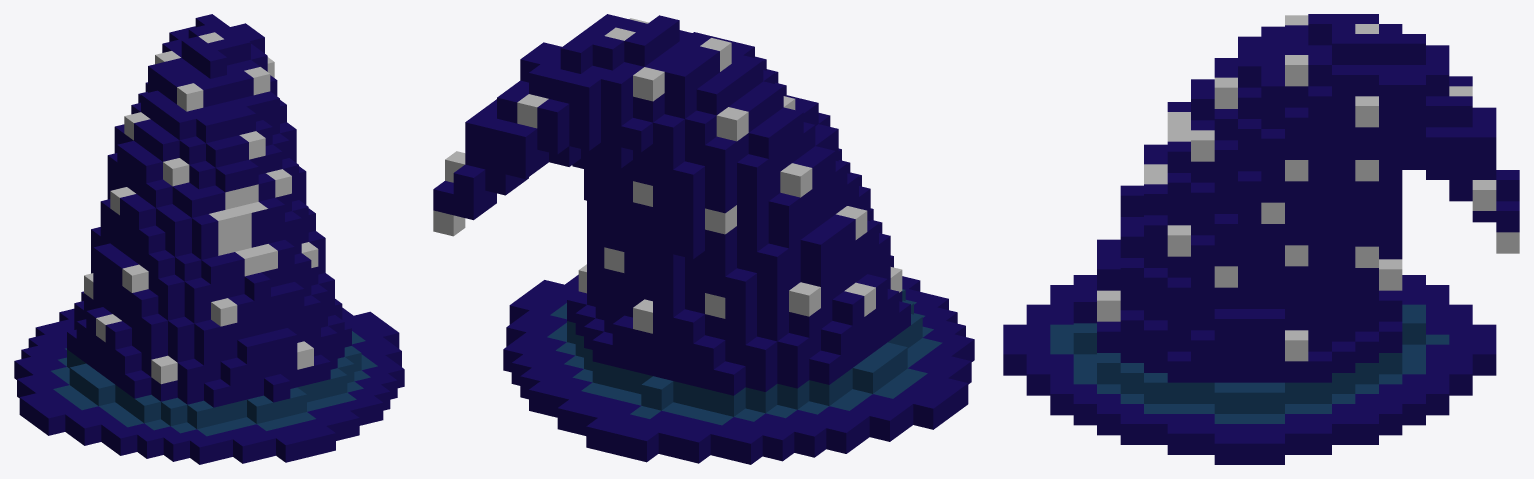
File: WizardHat.fbx
The picture shows the model from 3 angles, left to right: view 1: azimuth 30°, elevation 25°; view 2: azimuth 150°, elevation 25°; view 3: azimuth 270°, elevation 25°; orthographic projection. The views are drawn at different scales.
Parts seen in each view (by area): view 1: WizardHat; view 2: WizardHat; view 3: WizardHat.
Part boxes in pixels (bbox=[...]): WizardHat: bbox=[14, 14, 404, 464]; WizardHat: bbox=[433, 14, 974, 464]; WizardHat: bbox=[1003, 14, 1519, 464].
Bounding box in the file's own units: 2.1 × 2.2 × 1.7.
